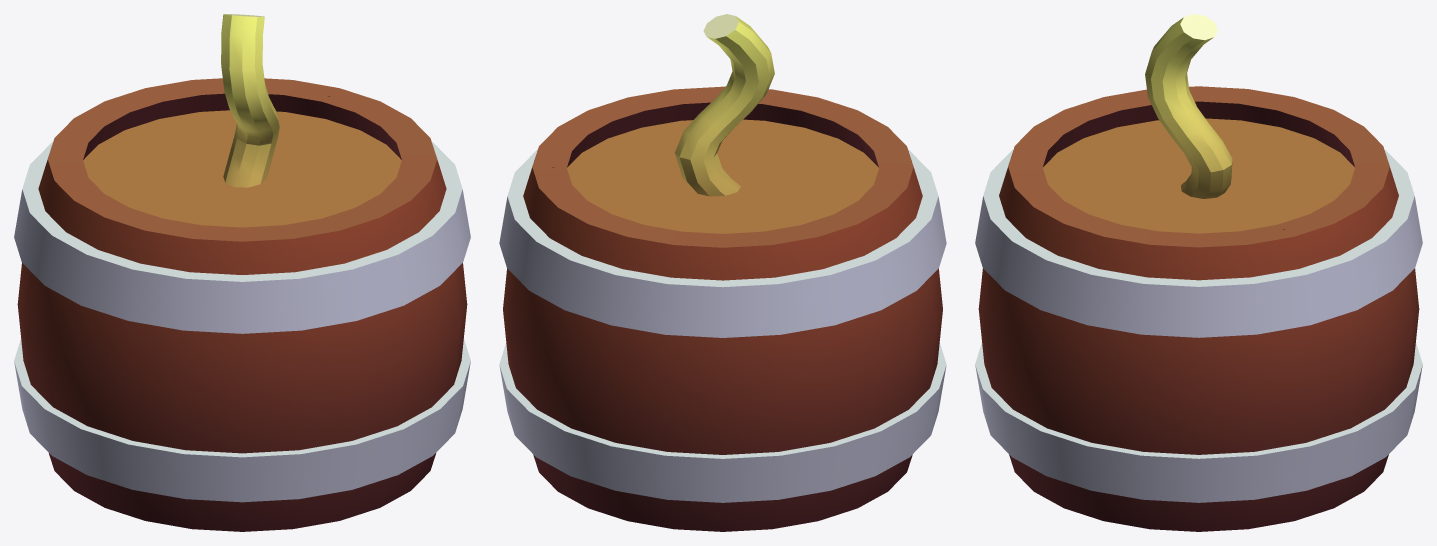
The model's file is TNT_2.fbx.
3 renders of one model, left to right at view 1: azimuth 30°, elevation 25°; view 2: azimuth 150°, elevation 25°; view 3: azimuth 270°, elevation 25°, orthographic. The views are drawn at different scales.
Visible parts, largest first — view 1: TNT_2; view 2: TNT_2; view 3: TNT_2.
Boxes of the visible parts, <box> form: TNT_2: <box>14,14,470,531</box>; TNT_2: <box>499,14,946,531</box>; TNT_2: <box>975,14,1422,531</box>.
Bounding box in the file's own units: 266 × 283 × 266.
